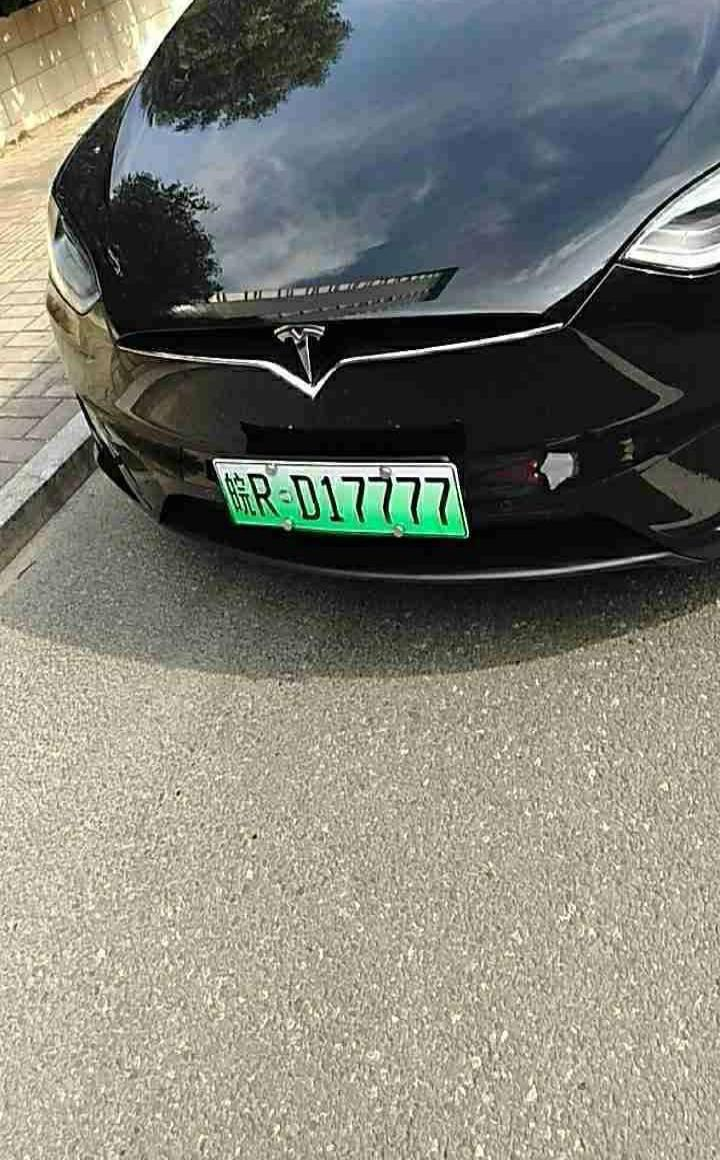car_id: (216, 455, 469, 534)
